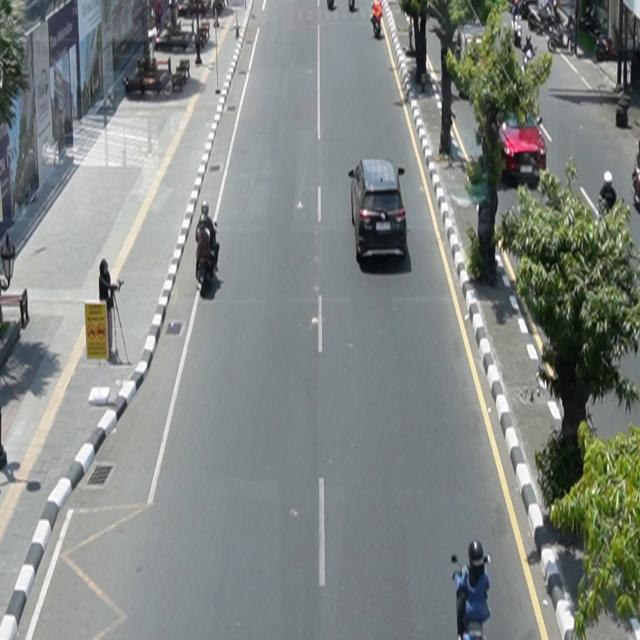car: (349, 158, 408, 263), (476, 108, 548, 189)
